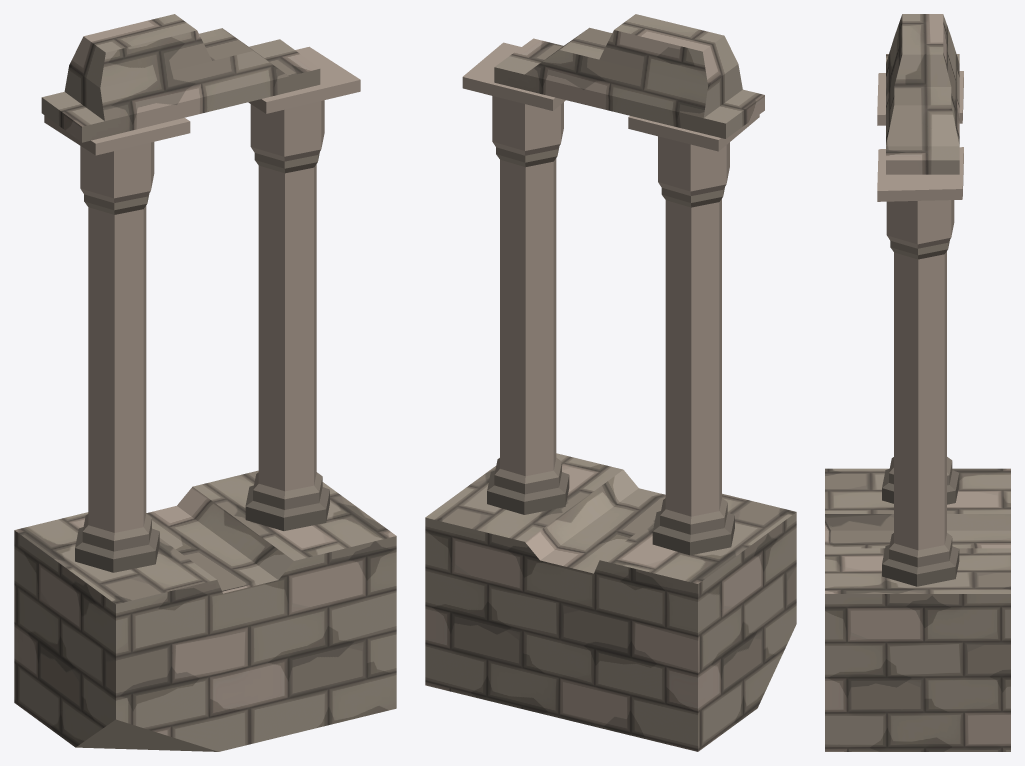
File: SM_Bld_Ruins_01.fbx
The picture shows the model from 3 angles, left to right: view 1: azimuth 30°, elevation 25°; view 2: azimuth 150°, elevation 25°; view 3: azimuth 270°, elevation 25°; orthographic projection. The views are drawn at different scales.
Parts seen in each view (by area): view 1: SM_Bld_Ruins_01; view 2: SM_Bld_Ruins_01; view 3: SM_Bld_Ruins_01.
Boxes of the visible parts, bbox=[...] form: SM_Bld_Ruins_01: bbox=[14, 14, 396, 751]; SM_Bld_Ruins_01: bbox=[425, 14, 796, 751]; SM_Bld_Ruins_01: bbox=[825, 14, 1010, 751].
Size of the model in its own units: 320 by 745 by 200.
